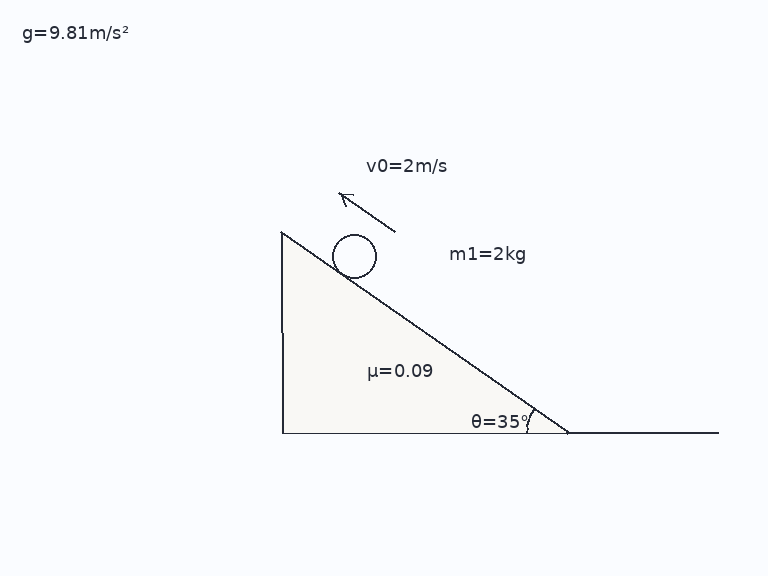ball: (330, 232, 378, 280)
ramp: (279, 230, 569, 434)
